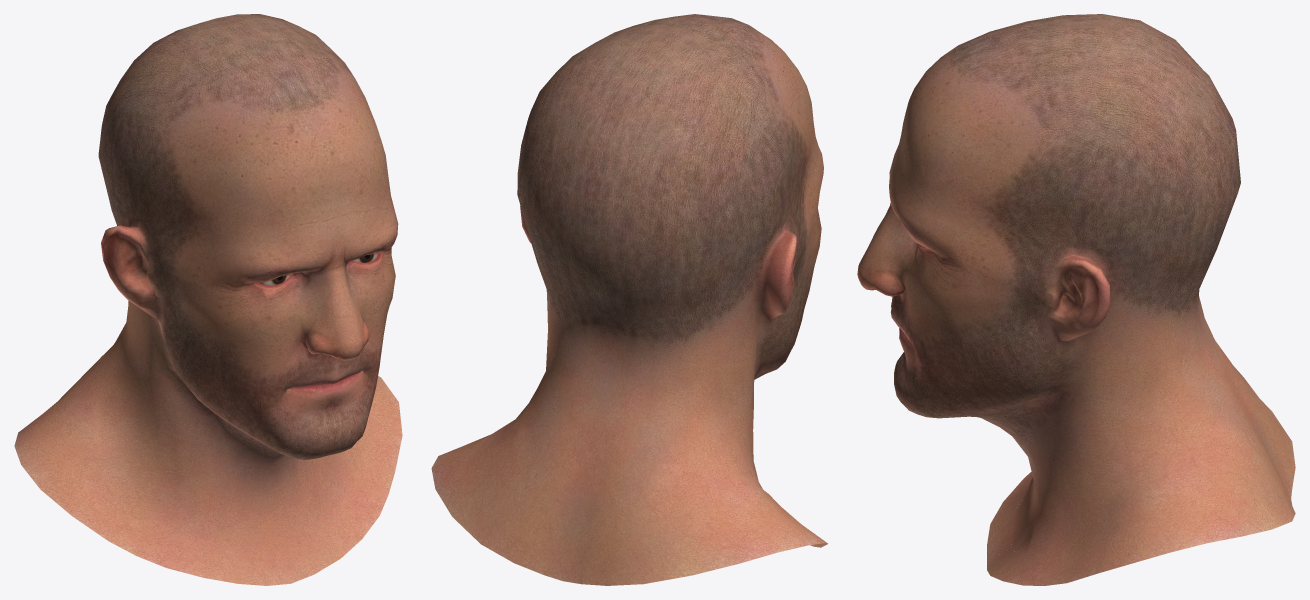
Rendered from 真人头像_男_Jason Statham_opt.glb.
The picture shows the model from 3 angles, left to right: view 1: azimuth 30°, elevation 25°; view 2: azimuth 150°, elevation 25°; view 3: azimuth 270°, elevation 25°; orthographic projection. The views are drawn at different scales.
Visible parts, largest first — view 1: defaultMaterial_2; view 2: defaultMaterial_2; view 3: defaultMaterial_2.
Part boxes in pixels (x1,y1,x2,y2): defaultMaterial_2: (14,14,402,585); defaultMaterial_2: (431,14,827,585); defaultMaterial_2: (857,14,1295,585).
Size of the model in its own units: 0.2904 by 0.4 by 0.2979.
3 materials, 3 textured.
